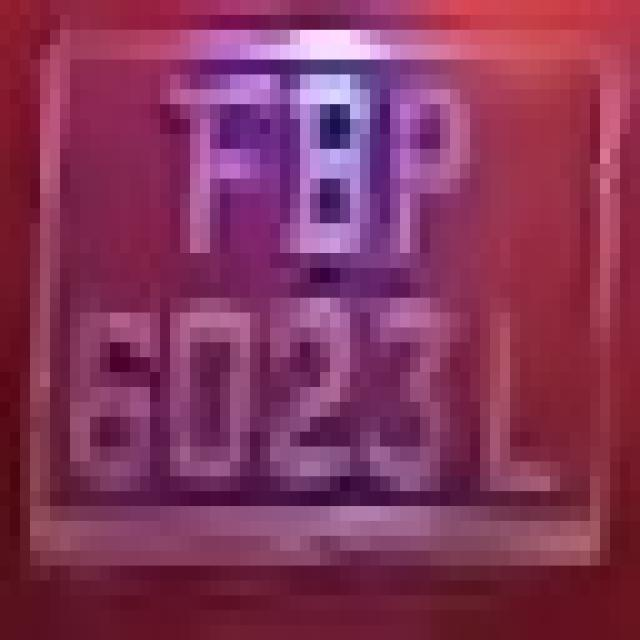0: (150, 238, 260, 491)
2: (250, 268, 360, 536)
3: (340, 283, 440, 536)
6: (60, 238, 160, 506)
B: (250, 30, 380, 283)
F: (160, 30, 270, 268)
L: (460, 283, 580, 536)
P: (380, 45, 480, 328)
